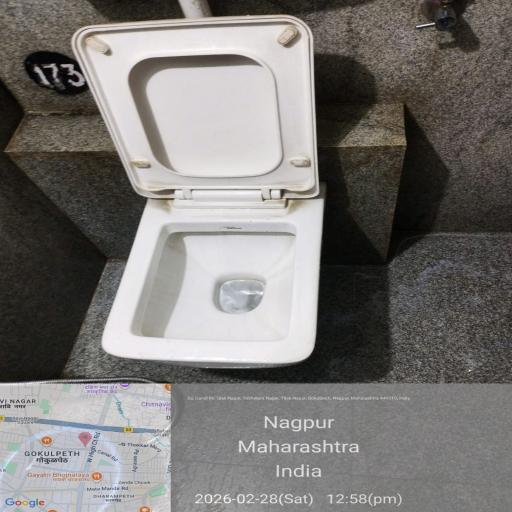clean_floor: (31, 199, 512, 512)
dirty_western: (41, 36, 373, 438)
